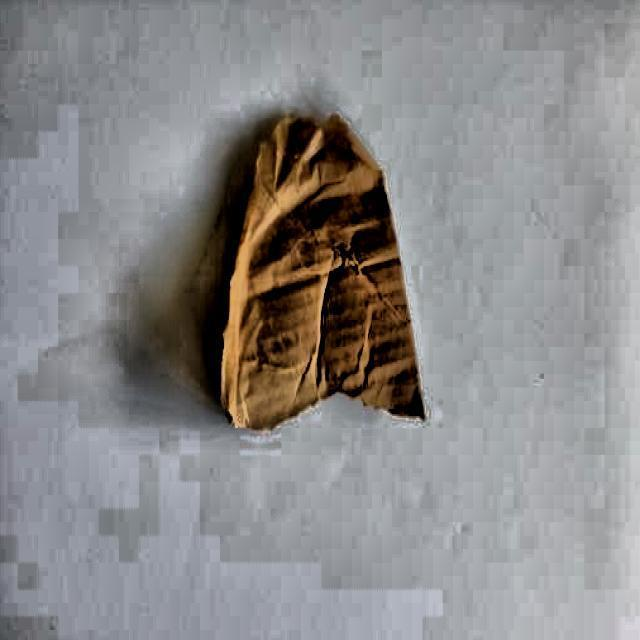cardboard: (220, 114, 428, 434)
